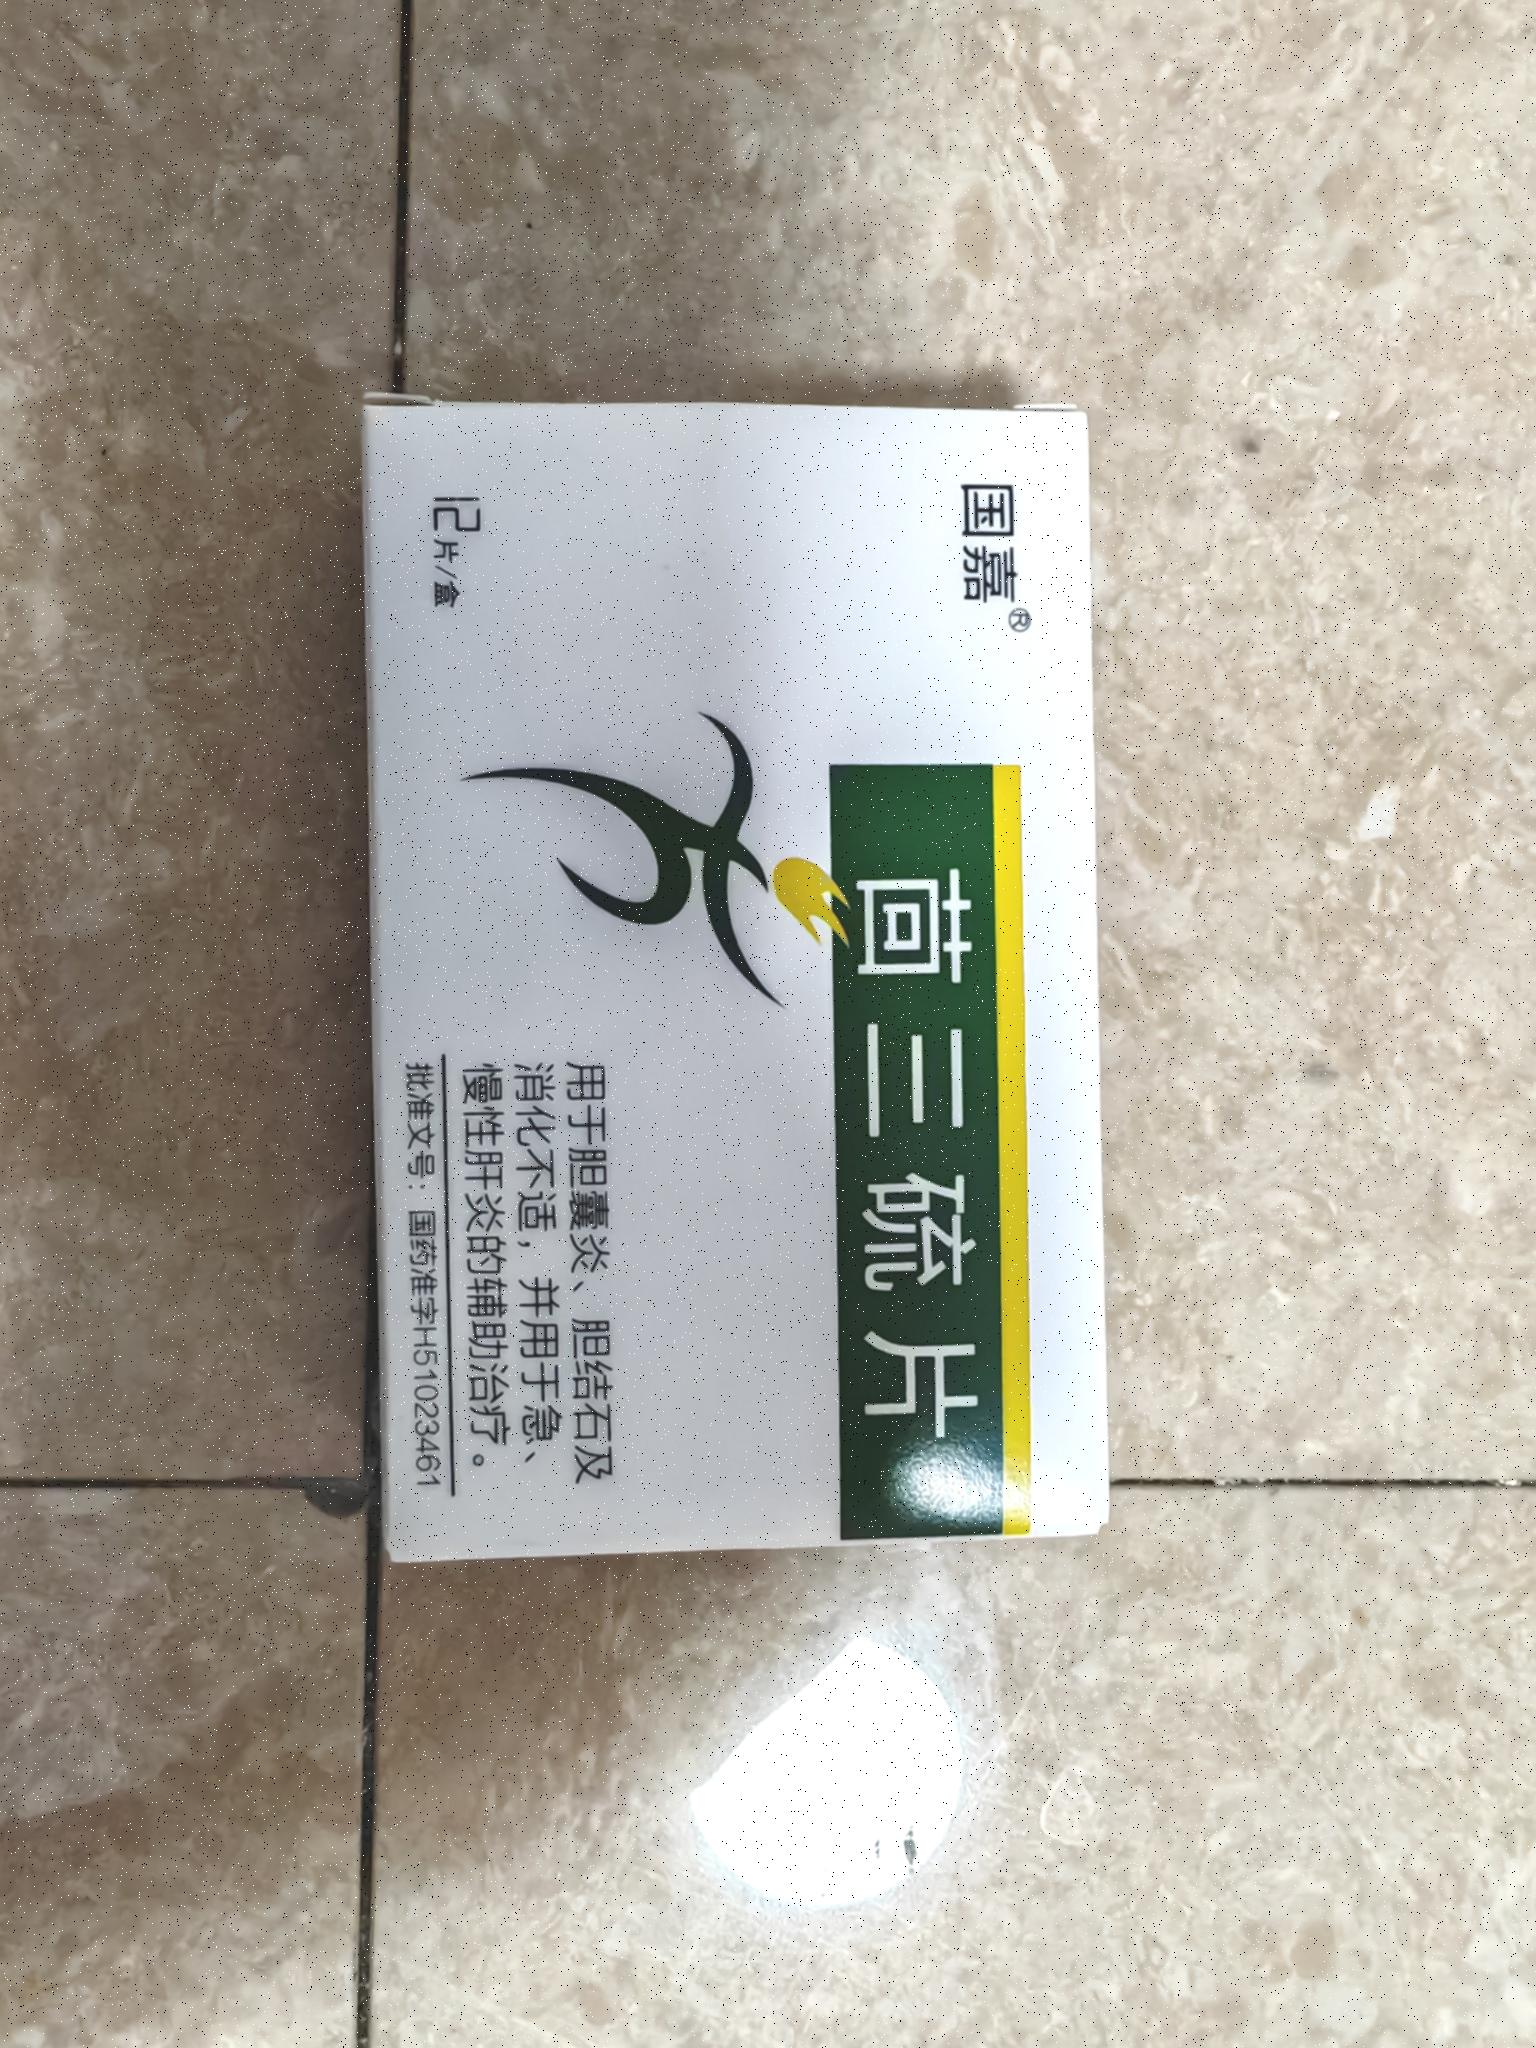Medicine4: (328, 355, 1149, 1596)
